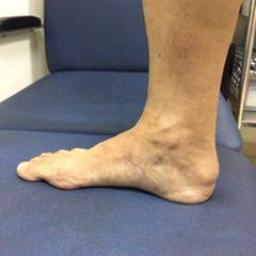Medial View -Right Foot-: (12, 88, 232, 218)
